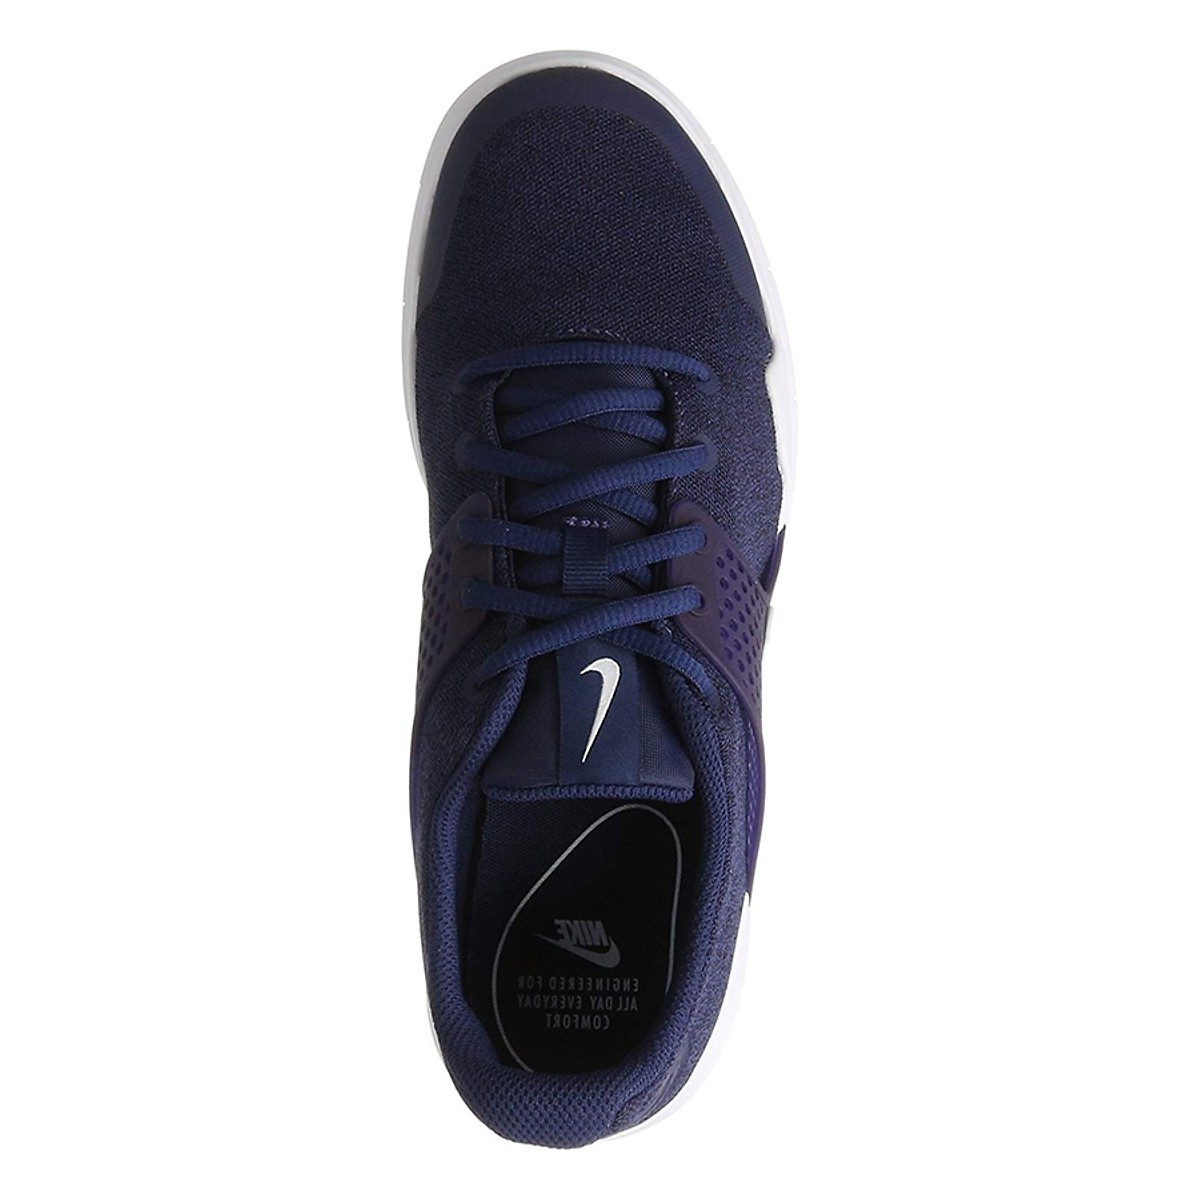Nike: (392, 895, 697, 1078), (484, 612, 676, 791)
